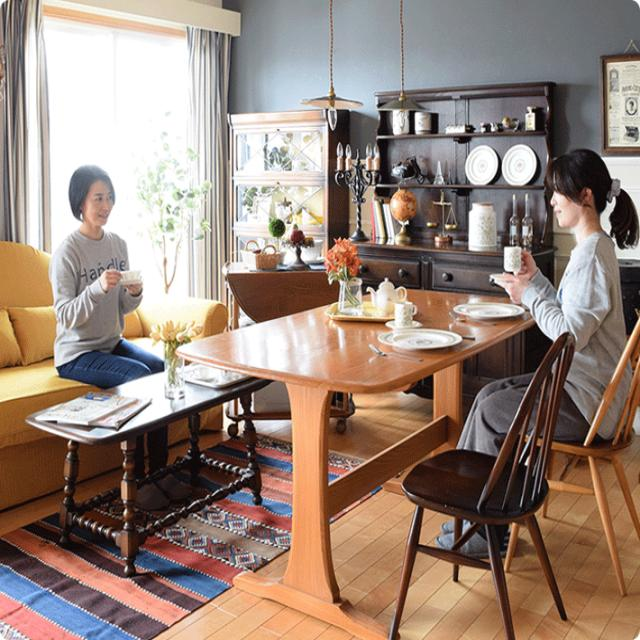vintage chair: (385, 329, 581, 640)
